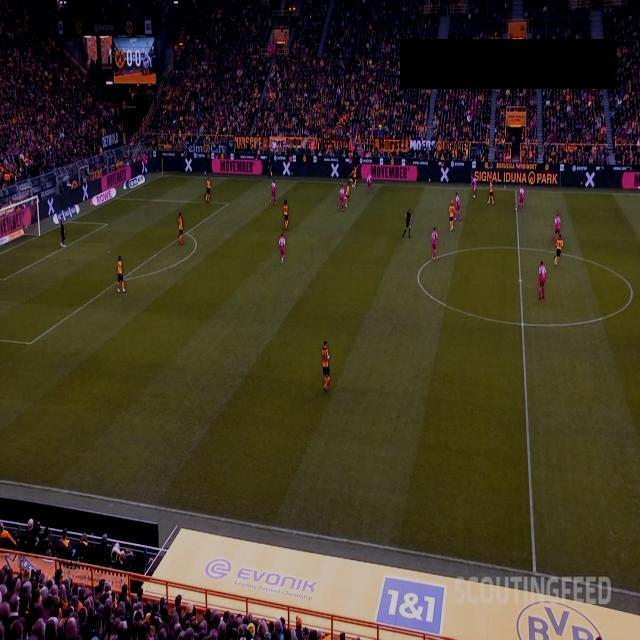f_player: (52, 206, 74, 257), (552, 212, 564, 264), (319, 342, 331, 393), (484, 170, 499, 210), (362, 167, 378, 204), (516, 180, 532, 212), (448, 194, 462, 230), (469, 171, 481, 207), (116, 256, 127, 294), (538, 261, 548, 301), (348, 165, 360, 191), (338, 185, 350, 210), (175, 214, 184, 246), (278, 234, 286, 264), (431, 228, 439, 258), (282, 199, 290, 229), (204, 178, 212, 204), (270, 181, 276, 205)
umpire: (402, 210, 414, 240)
